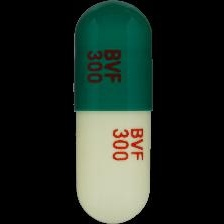0093-5119: (0, 0, 224, 224)
